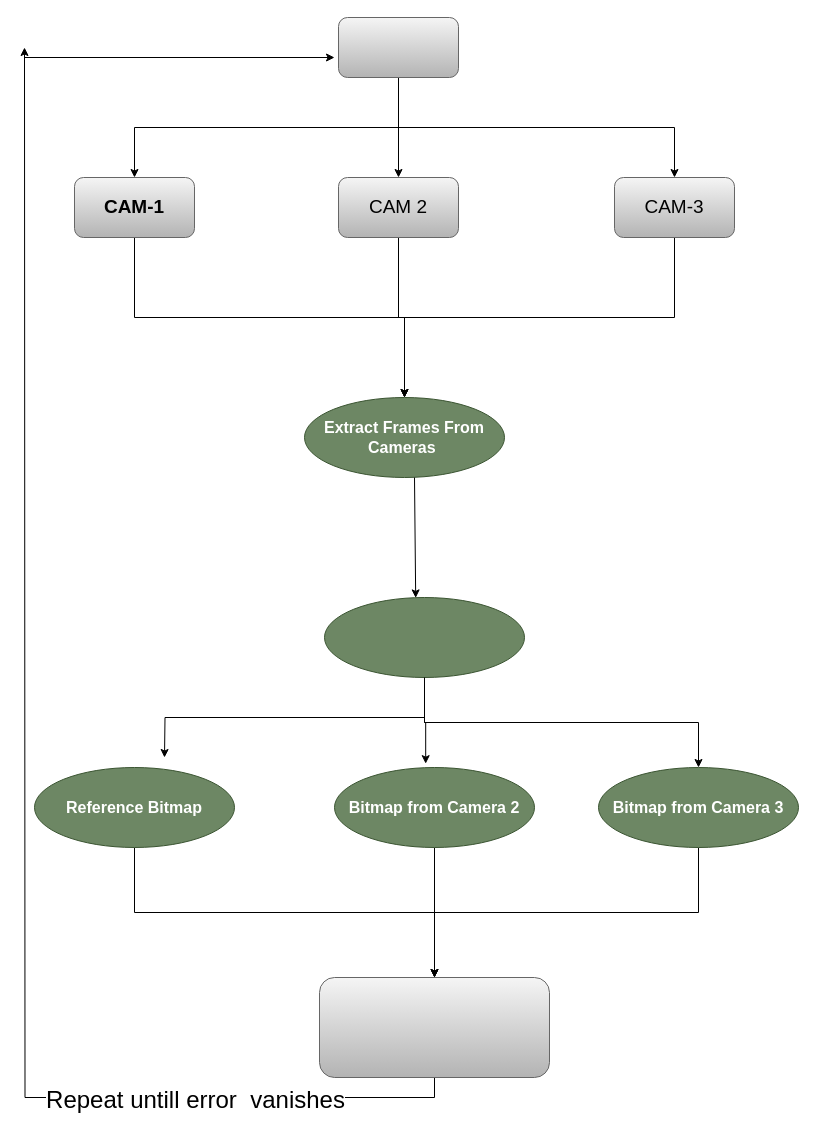
Image size: 816x1132. Some labels were removed from this diagram. Here are the shapes that lost their labels. From the top down, the box of each, then its label:
(338, 16, 458, 78): Opeartor
(324, 596, 524, 678): Load Into Bitmap
(318, 976, 550, 1078): Intensity difference calculations between Images
